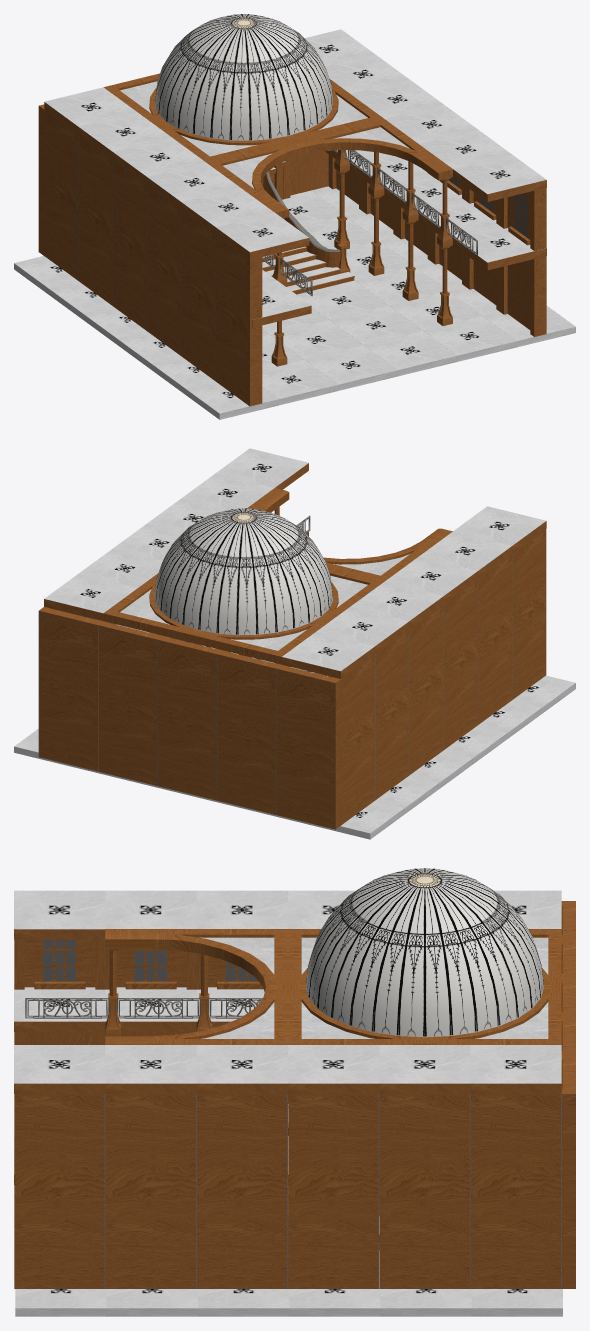
The model's file is mansion-staircase.glb.
The picture shows the model from 3 angles, top to bottom: view 1: azimuth 30°, elevation 25°; view 2: azimuth 150°, elevation 25°; view 3: azimuth 270°, elevation 25°; orthographic projection. The views are drawn at different scales.
Parts seen in each view (by area): view 1: object 38, Cube.124_Material.001_0, Cube.120_Material.001_0, Cube.123_Material.001_0, Cube.121_Material.001_0, Cube.122_Material.001_0, Cube.002_Material.001_0, Cube.136_Material.001_0, Cube.083_Material.001_0, Cube.079_Material.001_0, Cube.130_Material.001_0, Cube.142_Material.001_0 (+58 smaller); view 2: object 38, Cube.056_Material.001_0, Cube.052_Material.001_0, Cube.003_Material.001_0, Cube.054_Material.001_0, Cube.057_Material.001_0, Cube.053_Material.001_0, Cube.032_Material.001_0, Cube.055_Material.001_0, Cube.107_Material.001_0, Cube.121_Material.001_0, Cube.123_Material.001_0 (+29 smaller); view 3: object 38, Cube.131_Material.001_0, Cube.132_Material.001_0, Cube.136_Material.001_0, Cube.133_Material.001_0, Cube.135_Material.001_0, Cube.134_Material.001_0, Cube.140_Material.001_0, Cube.137_Material.001_0, Cube.138_Material.001_0, Cube.139_Material.001_0, Cube.141_Material.001_0 (+30 smaller).
Boxes of the visible parts, x1,y1,x2,y2 form: object 38: [103, 14, 452, 296]; Cube.124_Material.001_0: [215, 235, 262, 351]; Cube.120_Material.001_0: [78, 134, 112, 250]; Cube.123_Material.001_0: [181, 210, 215, 326]; Cube.121_Material.001_0: [112, 160, 146, 276]; Cube.122_Material.001_0: [147, 185, 181, 301]; Cube.002_Material.001_0: [46, 111, 78, 225]; Cube.136_Material.001_0: [500, 187, 546, 282]; Cube.083_Material.001_0: [215, 213, 309, 259]; Cube.079_Material.001_0: [453, 155, 546, 201]; Cube.130_Material.001_0: [215, 327, 262, 406]; Cube.142_Material.001_0: [500, 264, 546, 336]; object 38: [103, 488, 452, 745]; Cube.056_Material.001_0: [276, 665, 342, 774]; Cube.052_Material.001_0: [38, 606, 103, 716]; Cube.003_Material.001_0: [98, 621, 162, 731]; Cube.054_Material.001_0: [217, 650, 281, 760]; Cube.057_Material.001_0: [276, 760, 342, 829]; Cube.053_Material.001_0: [38, 702, 98, 771]; Cube.032_Material.001_0: [98, 717, 157, 785]; Cube.055_Material.001_0: [217, 746, 276, 814]; Cube.107_Material.001_0: [157, 731, 216, 800]; Cube.121_Material.001_0: [409, 604, 443, 720]; Cube.123_Material.001_0: [478, 554, 512, 670]; object 38: [25, 868, 575, 1207]; Cube.131_Material.001_0: [470, 1086, 561, 1216]; Cube.132_Material.001_0: [379, 1094, 470, 1216]; Cube.136_Material.001_0: [14, 1094, 105, 1216]; Cube.133_Material.001_0: [288, 1094, 379, 1216]; Cube.135_Material.001_0: [105, 1094, 196, 1216]; Cube.134_Material.001_0: [197, 1094, 287, 1216]; Cube.140_Material.001_0: [197, 1208, 288, 1288]; Cube.137_Material.001_0: [470, 1216, 561, 1288]; Cube.138_Material.001_0: [379, 1216, 470, 1288]; Cube.139_Material.001_0: [288, 1216, 379, 1288]; Cube.141_Material.001_0: [105, 1216, 196, 1288].
Size of the model in its own units: 12 by 7.77 by 12.31.
1 material, 1 textured.
